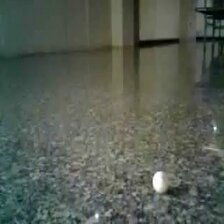w: (151, 169, 170, 193)
